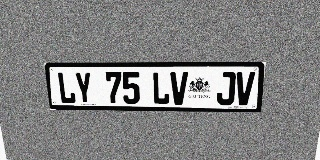5: (122, 72, 140, 104)
7: (104, 72, 123, 104)
J: (216, 72, 236, 105)
L: (57, 72, 76, 104), (152, 72, 170, 105)
V: (234, 72, 255, 105), (170, 72, 188, 105)
Y: (74, 72, 93, 104)
